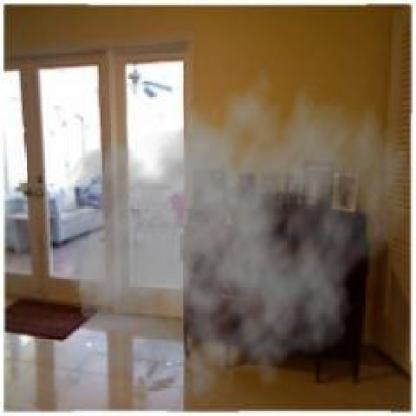Smoke: (52, 54, 413, 414)
